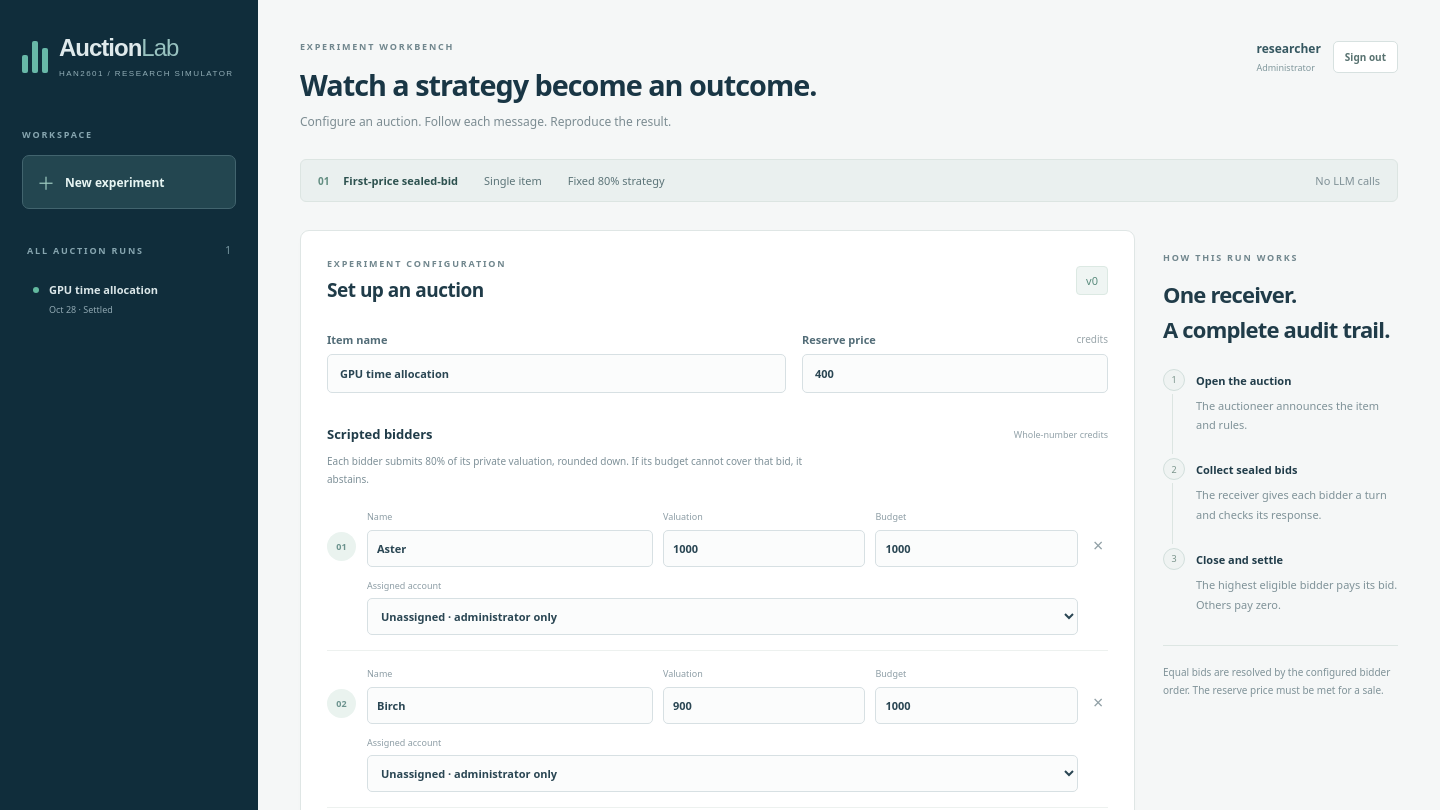
Scenario: account sessions › clears the workspace after an authenticated request returns 401
Step 1. Click the button "GPU time allocation Oct 28 · Settled" → click(129, 299), box [22,270,236,328]
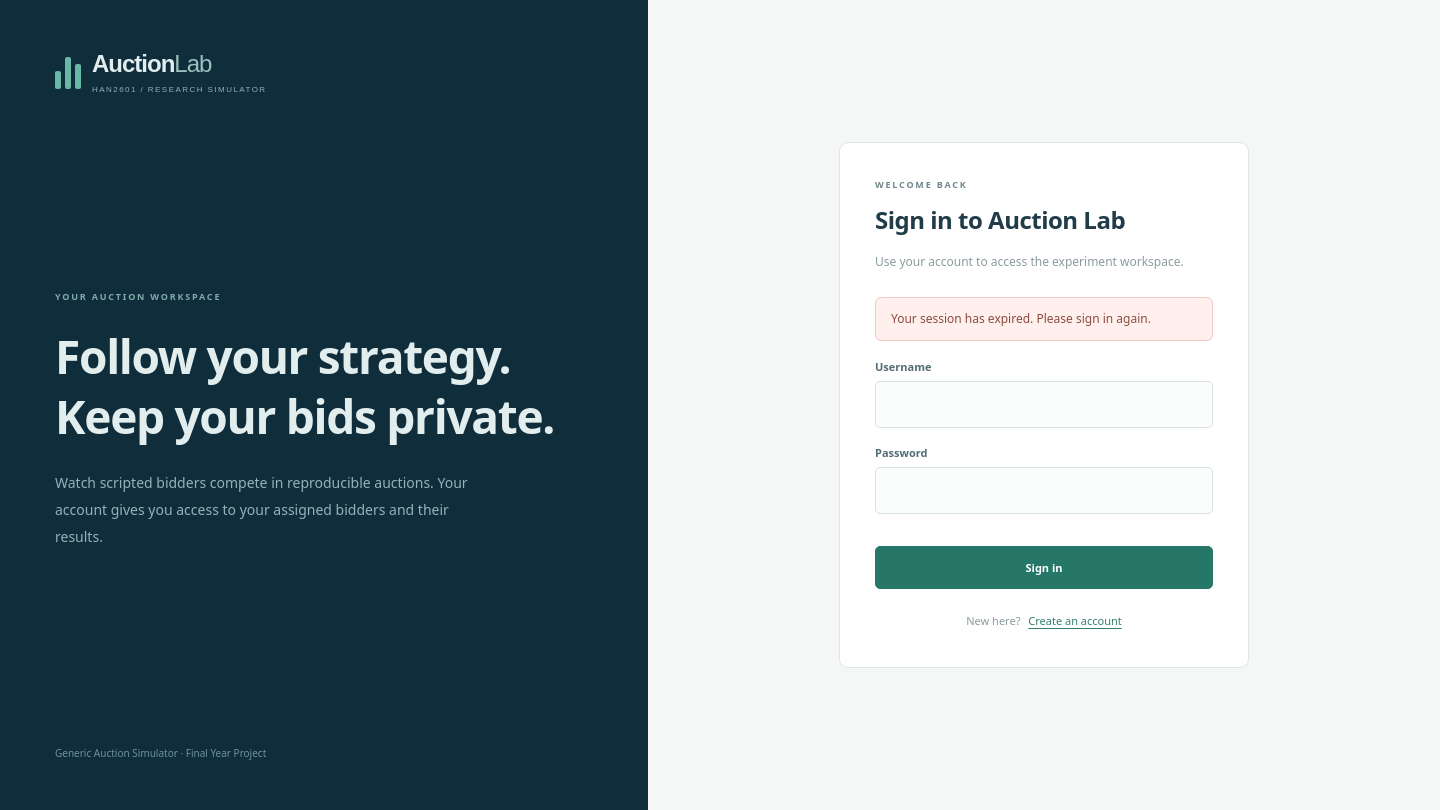
Check: the button "Sign in" is shown, box [875,546,1213,589]
Check: the message shows "Your session has expired.", box [891,310,1151,327]
Check: the button "GPU time allocation" is gone
